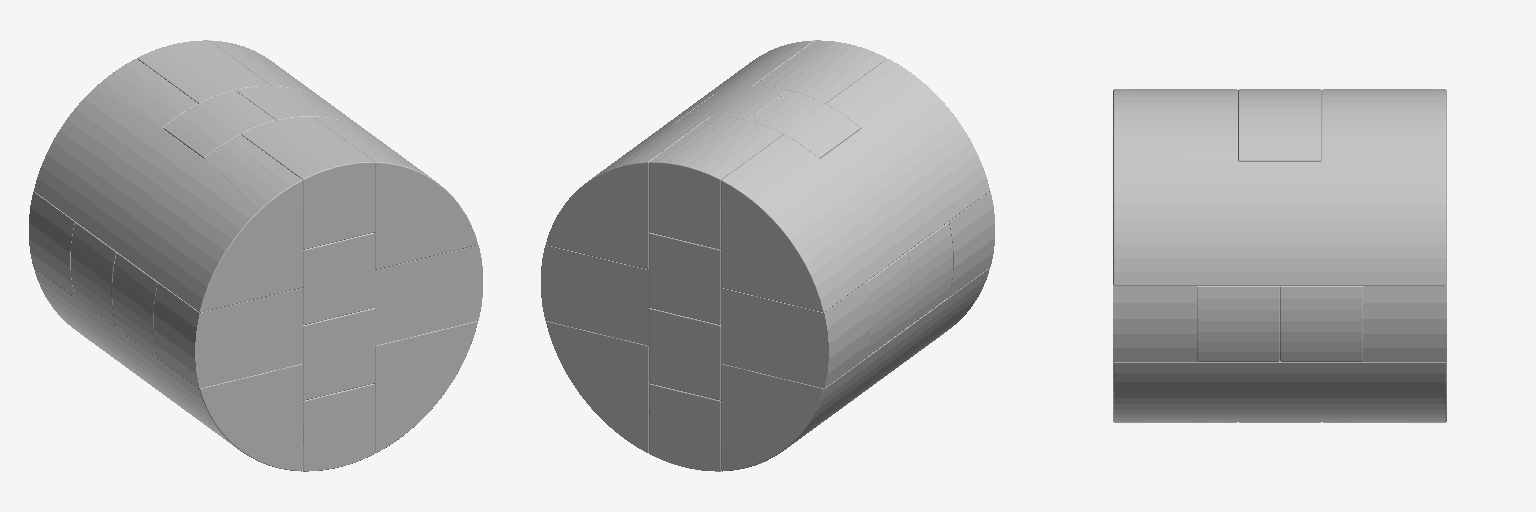
The model's file is kegg.obj.
3 renders of one model, left to right at view 1: azimuth 30°, elevation 25°; view 2: azimuth 150°, elevation 25°; view 3: azimuth 270°, elevation 25°, orthographic.
Parts seen in each view (by area): view 1: texture6, texture2, texture4, texture1, texture, texture3, texture5; view 2: texture6, texture2, texture4, texture1, texture, texture3, texture5; view 3: texture6, texture2, texture1, texture4, texture.
Part boxes in pixels (left/top/right/bottom): texture6: left=34, top=40, right=477, bottom=471; texture2: left=29, top=191, right=482, bottom=388; texture4: left=137, top=40, right=374, bottom=471; texture1: left=71, top=222, right=158, bottom=357; texture: left=163, top=86, right=347, bottom=158; texture3: left=303, top=308, right=374, bottom=400; texture5: left=303, top=233, right=374, bottom=324; texture6: left=546, top=40, right=989, bottom=471; texture2: left=541, top=191, right=994, bottom=388; texture4: left=649, top=40, right=886, bottom=471; texture1: left=865, top=222, right=952, bottom=357; texture: left=676, top=86, right=860, bottom=158; texture3: left=649, top=308, right=720, bottom=400; texture5: left=649, top=233, right=720, bottom=324; texture6: left=1113, top=89, right=1446, bottom=422; texture2: left=1113, top=285, right=1446, bottom=361; texture1: left=1197, top=286, right=1362, bottom=361; texture4: left=1113, top=92, right=1446, bottom=128; texture: left=1238, top=89, right=1321, bottom=422.
Size of the model in its own units: 0.0799 by 0.08 by 0.08.